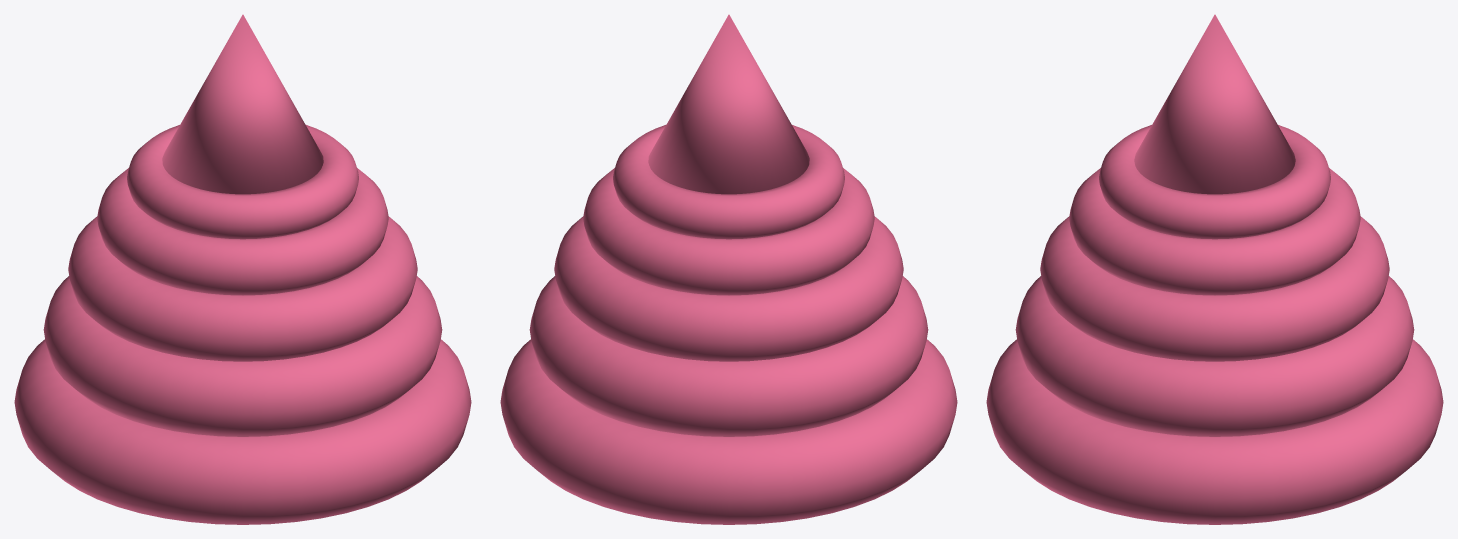
Rendered from chaei.glb.
3 views of the same model, side by side, from view 1: azimuth 30°, elevation 25°; view 2: azimuth 150°, elevation 25°; view 3: azimuth 270°, elevation 25° (orthographic).
Visible parts, largest first — view 1: トーラス; view 2: トーラス; view 3: トーラス.
Part boxes in pixels (left/top/right/bottom): トーラス: left=14, top=14, right=471, bottom=524; トーラス: left=500, top=14, right=957, bottom=524; トーラス: left=986, top=14, right=1443, bottom=524.
Size of the model in its own units: 0.1305 by 0.1353 by 0.1305.
